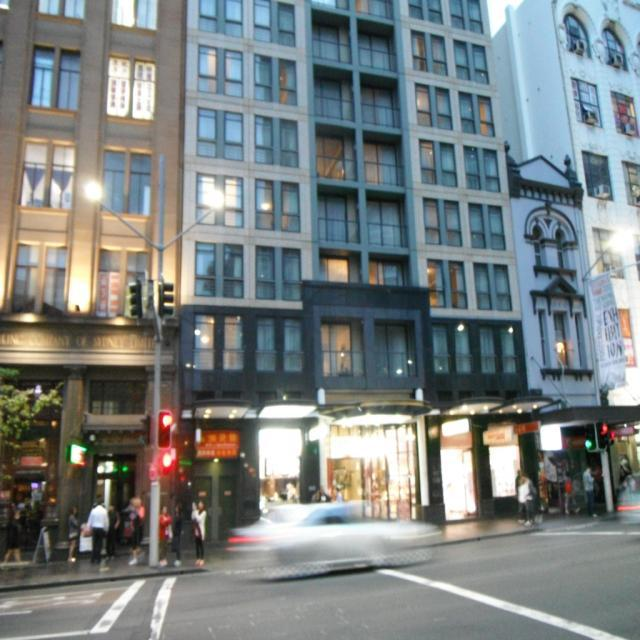off traffic light: (128, 280, 144, 320), (159, 276, 174, 316)
traffic light: (158, 411, 171, 447)
